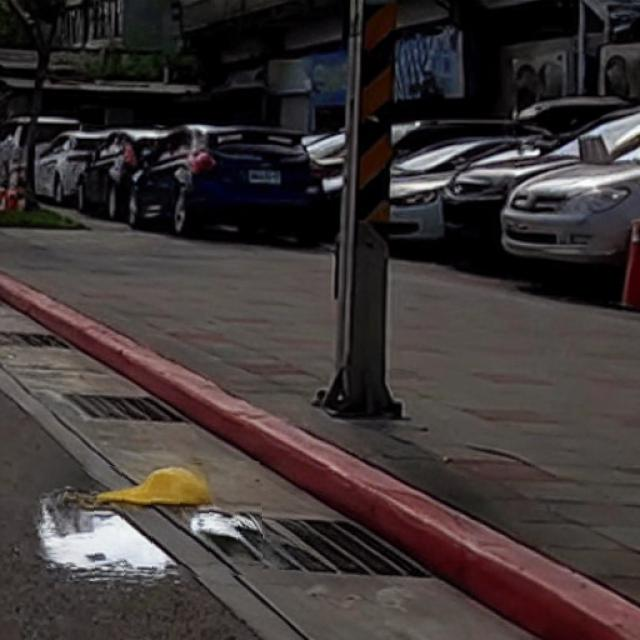puddle: (41, 464, 264, 582)
